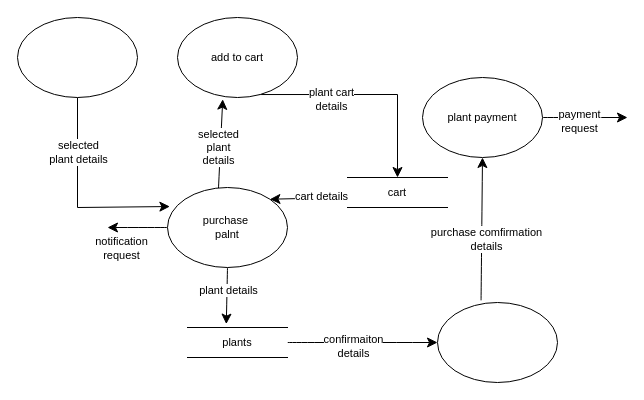
This 644x400 diagram has some shape labels left out. The centre of each missing label's shape, as x and y in pixels:
purchase confirmation: the point at 497,342
search plant: the point at 77,57
